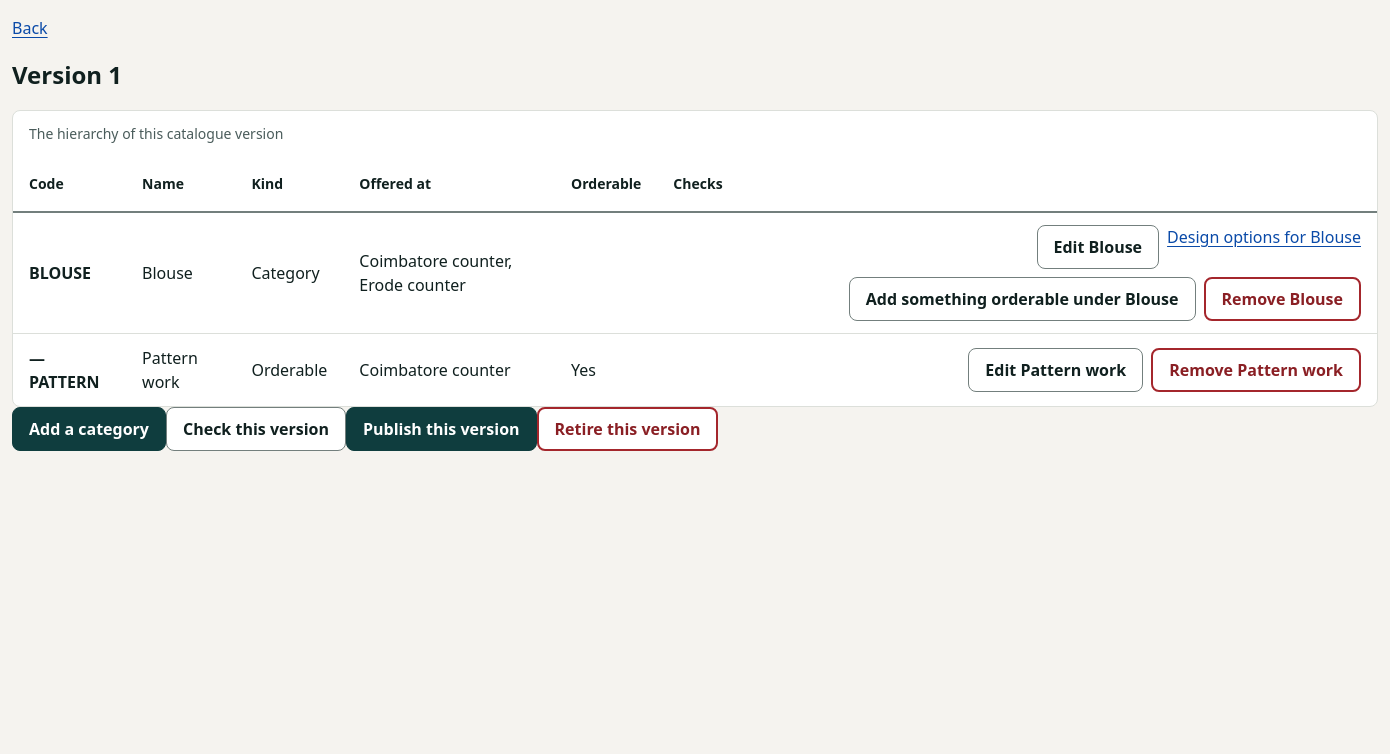
Test: does not offer to change a code that already exists
Expected: the table is shown, top-left (13, 111), bottom-right (1377, 406)
Click the button "Edit Blouse" at (1098, 247), box top-left (1036, 225), bottom-right (1159, 269)
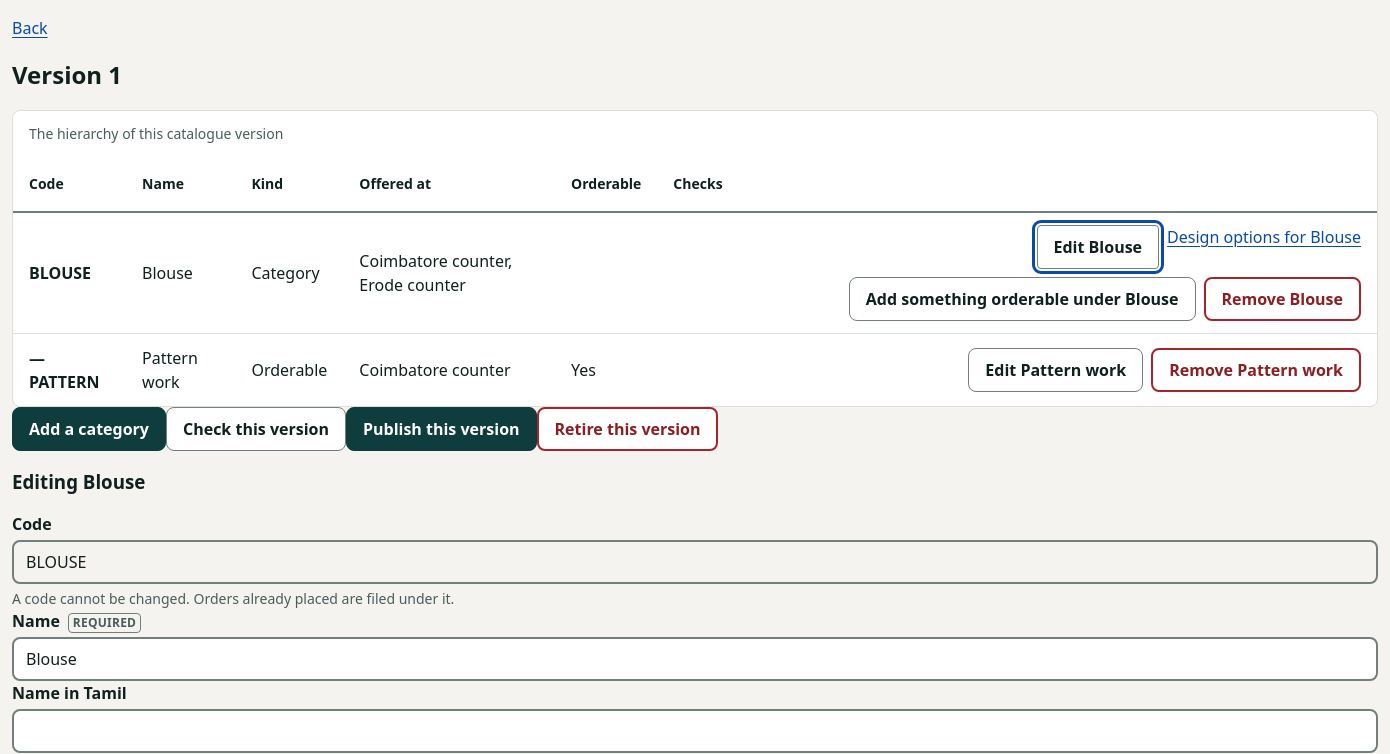
Result: the text "Orders already placed are filed under it" is shown at top-left (12, 589), bottom-right (454, 608)
